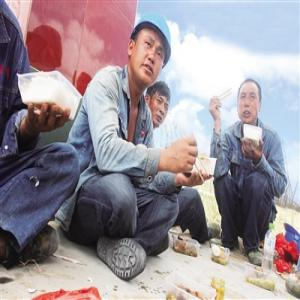blue: (130, 13, 173, 89)
none: (144, 80, 173, 131), (236, 79, 264, 125)
